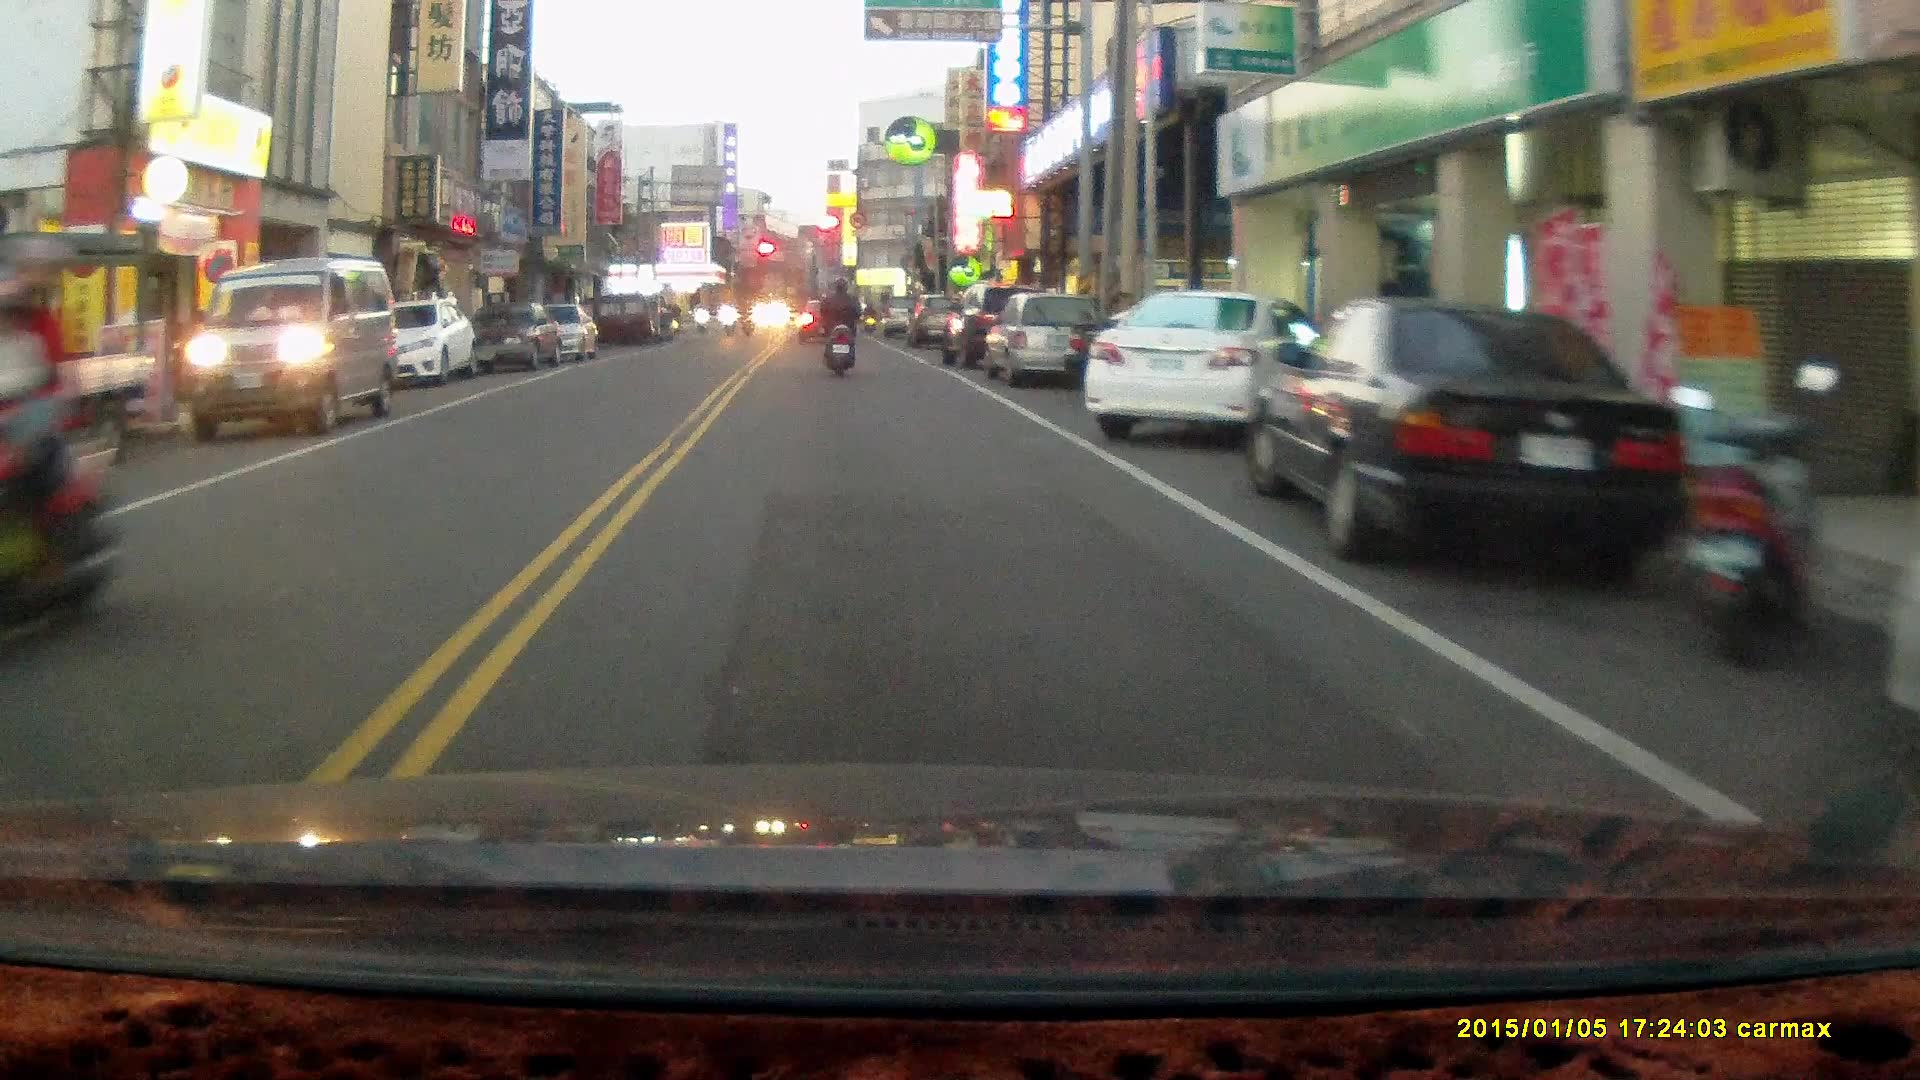rider: (0, 230, 122, 662), (818, 275, 864, 378)
vehicle: (1245, 298, 1721, 565), (193, 260, 404, 437), (1085, 288, 1313, 444), (982, 291, 1109, 390), (367, 298, 480, 390)
